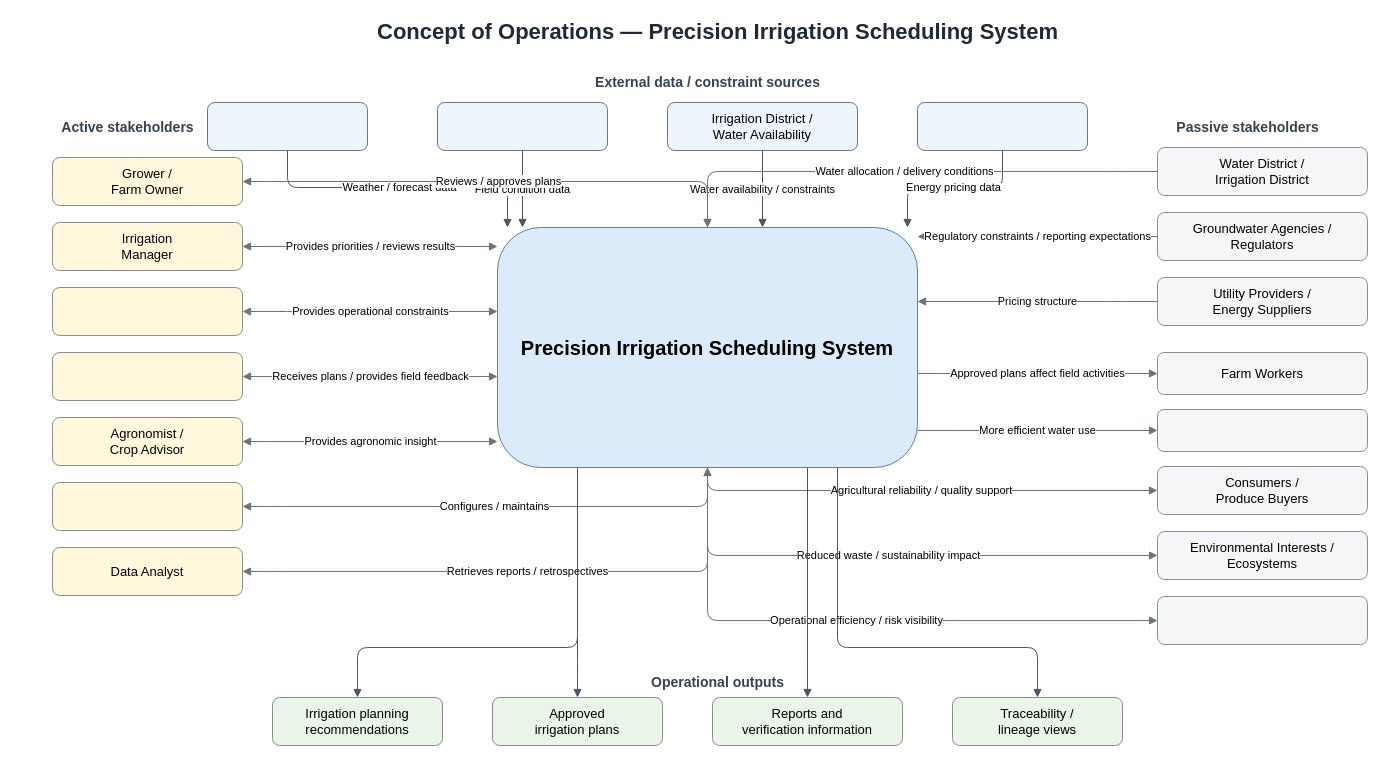
This 1385x763 diagram has some shape labels left out. The shapes that lost their labels are listed below. From the top down, each one's centre as x and y in pixels, then its label:
(287,126): Weather Service
(522,126): Soil Moisture / Sensor Platform
(1002,126): Utility Pricing Source
(147,311): Farm Operations Manager
(147,376): Field Supervisor / Crew Lead
(1262,430): Local Communities
(147,506): System Admin / IT Support
(1262,620): Investors / Business Partners
